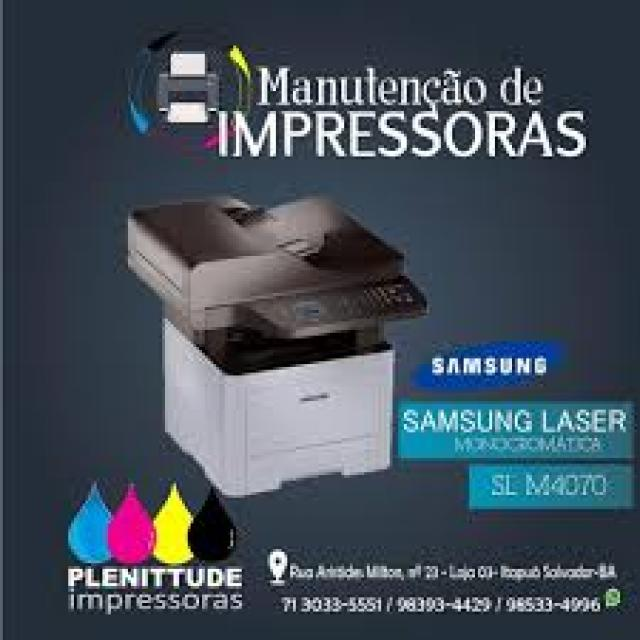printer: (123, 190, 431, 501)
